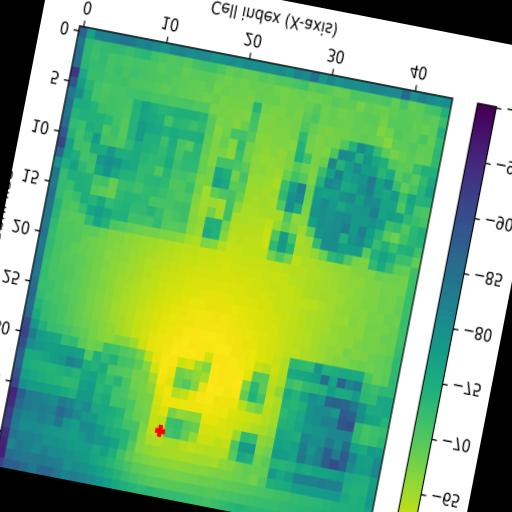Concrete: (264, 358, 366, 504)
Glass: (66, 340, 161, 462)
Metal: (301, 136, 400, 272)
Wood: (108, 98, 210, 244)
